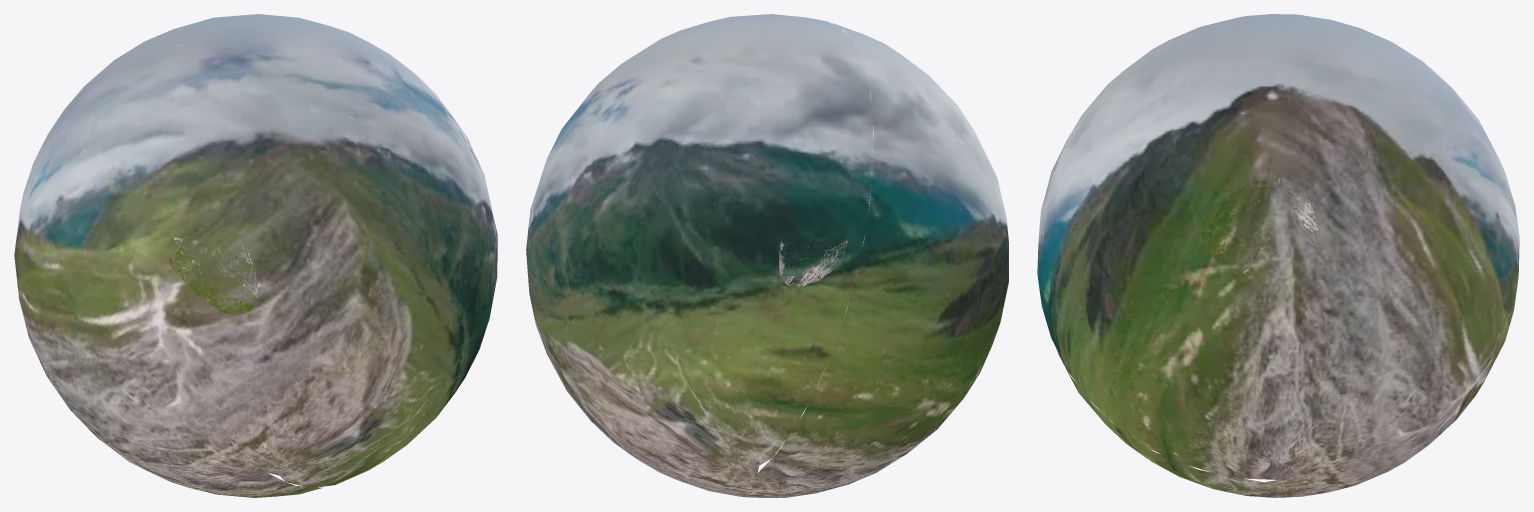
The model's file is weisse-wand-mountain.glb.
3 views of the same model, side by side, from view 1: azimuth 30°, elevation 25°; view 2: azimuth 150°, elevation 25°; view 3: azimuth 270°, elevation 25° (orthographic).
Parts seen in each view (by area): view 1: weisse-wand-mountain; view 2: weisse-wand-mountain; view 3: weisse-wand-mountain.
Boxes of the visible parts, x1,y1,x2,y2 form: weisse-wand-mountain: (14, 14, 497, 497); weisse-wand-mountain: (526, 14, 1008, 497); weisse-wand-mountain: (1037, 14, 1519, 497).
Size of the model in its own units: 4.76 by 4.76 by 4.75.
Materials: 2 (2 with a texture image).
